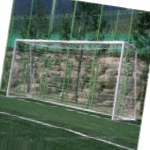goals: (6, 37, 139, 121)
